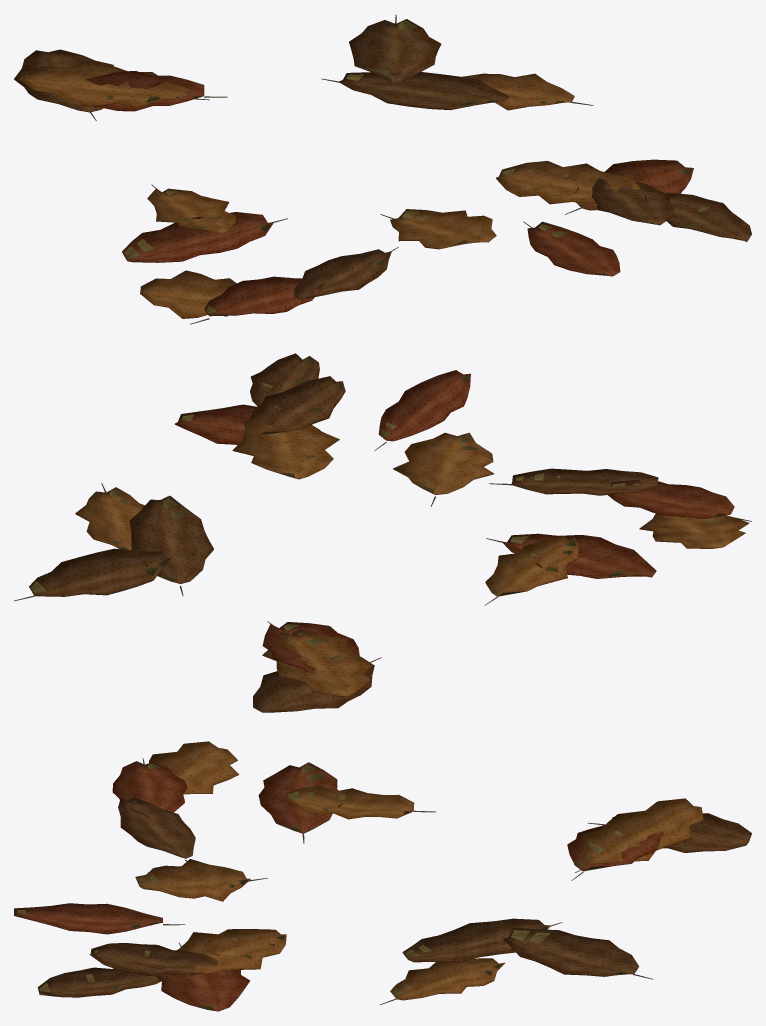
File: ground_leaves.fbx
3 views of the same model, one above another, from view 1: azimuth 30°, elevation 25°; view 2: azimuth 150°, elevation 25°; view 3: azimuth 270°, elevation 25° (orthographic). The views are drawn at different scales.
Parts seen in each view (by area): view 1: ground_leaves; view 2: ground_leaves; view 3: ground_leaves.
Boxes of the visible parts, left/top/right/bottom form: ground_leaves: left=14, top=14, right=751, bottom=324; ground_leaves: left=14, top=353, right=751, bottom=712; ground_leaves: left=14, top=741, right=751, bottom=1011.
Size of what is drawn, in the model's own units: 0.6038 by 0.02 by 0.7272.
Materials: 1 (1 with a texture image).
